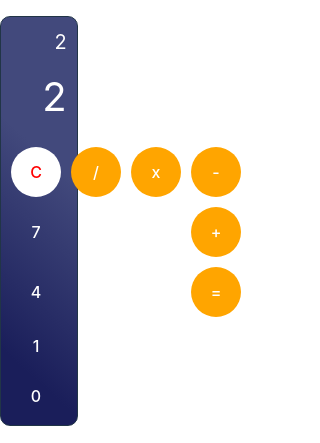
Test case: Calculator › click operator when there is a solution in the screen 2
This screenshot has width=320, height=443.
# Click button with operator +
Click the button "+" at (216, 232), box [191,207,241,257]
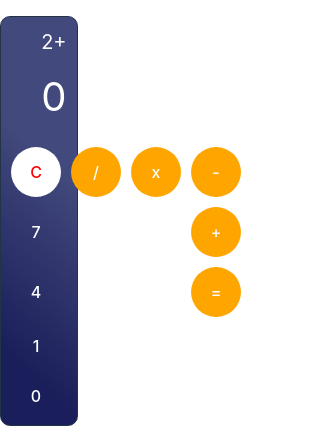
# Click button with number 2
Click the button "2" at (96, 346), box [72,327,120,366]
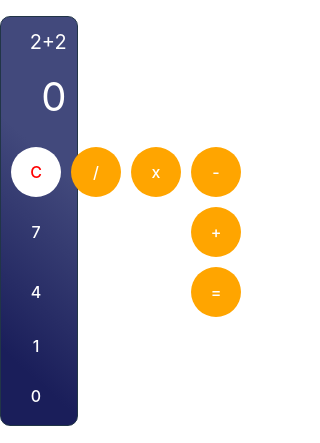
# Click button equal
Click the button "=" at (216, 292), box [191,267,241,317]
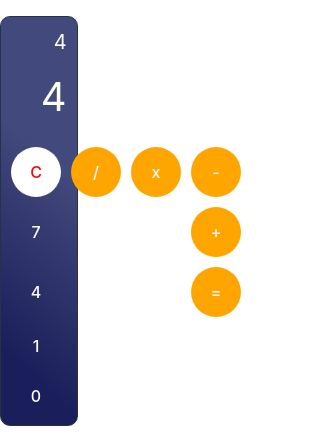
Check: the text with test id "calculator-history" reads "4", box [54,30,67,54]
